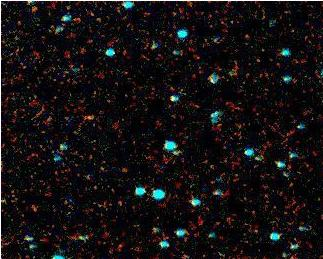star: (69, 104, 99, 134)
